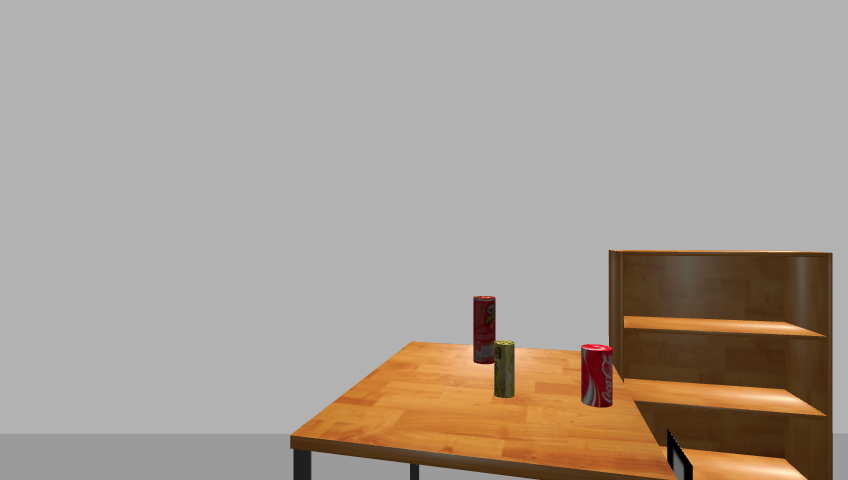aruco marker: (663, 430, 696, 480)
biscuits pack: (494, 340, 516, 400)
bookshelf: (602, 249, 840, 480)
coke can: (580, 344, 615, 408)
dinner table: (284, 341, 680, 479)
pringles can: (470, 295, 498, 366)
